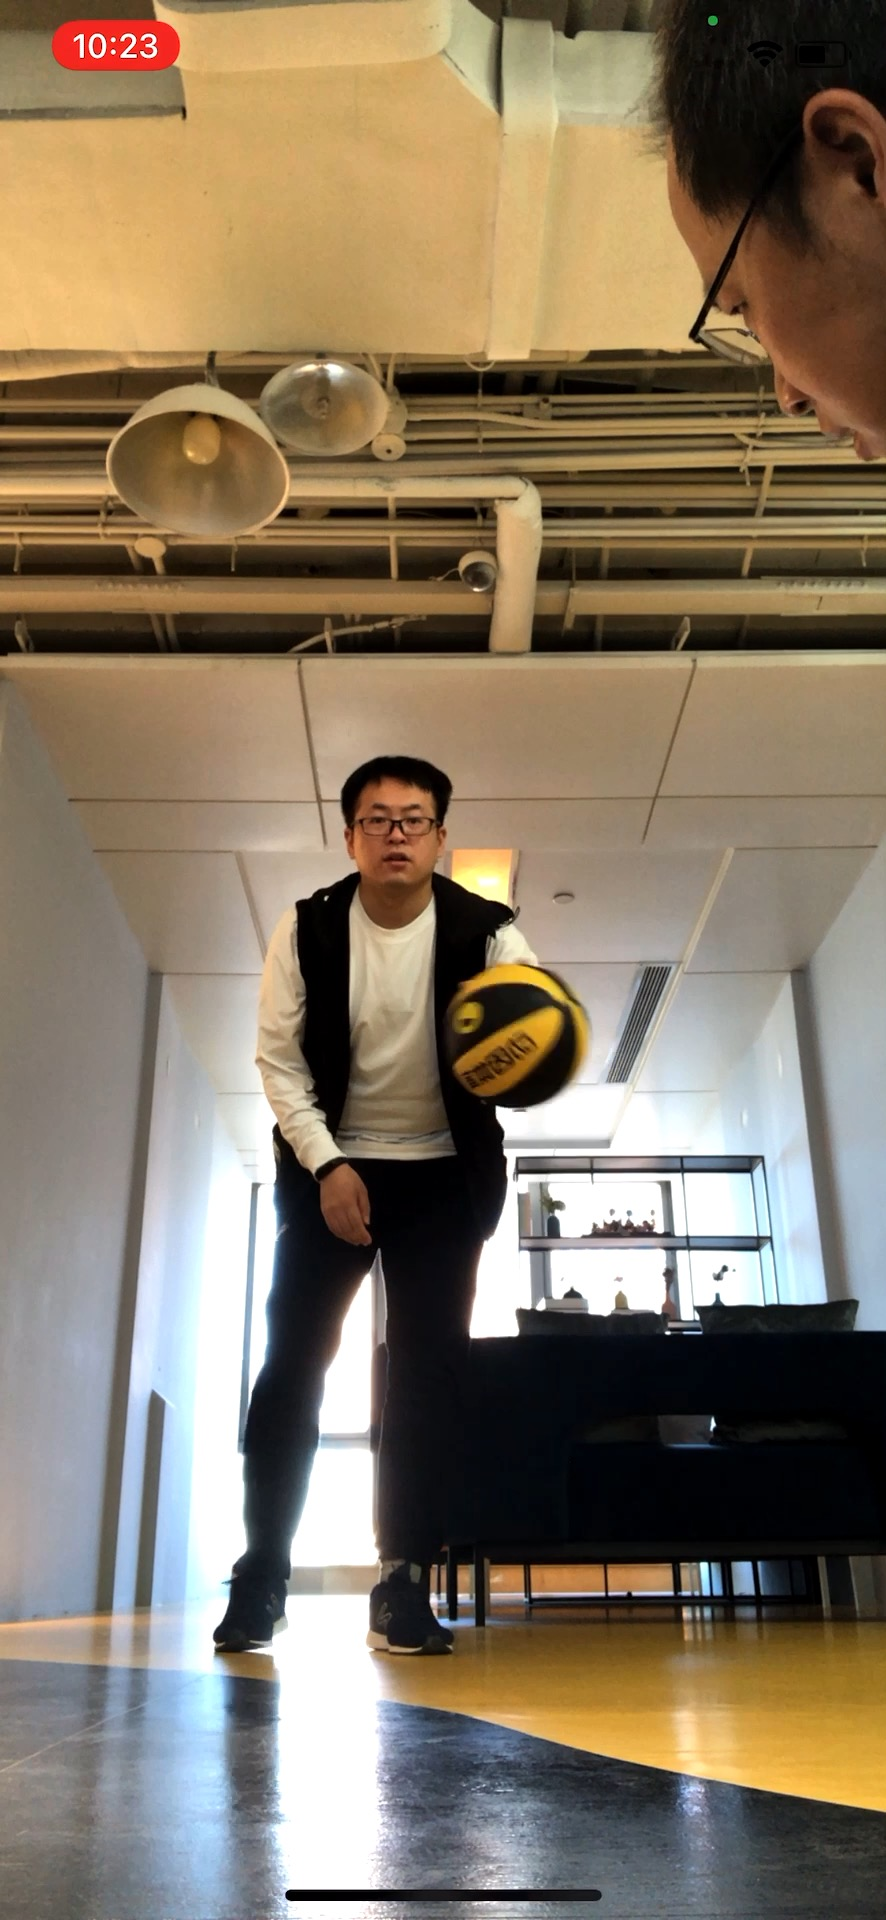ball: (452, 969, 590, 1109)
